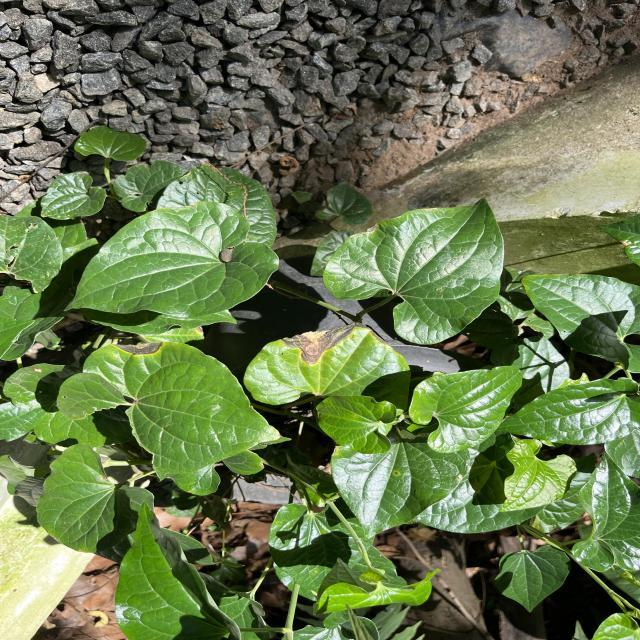Piper longum: (320, 194, 507, 346), (56, 200, 280, 320), (110, 498, 243, 640), (328, 439, 472, 544), (517, 273, 640, 375), (488, 376, 640, 448), (406, 364, 526, 455), (312, 394, 398, 456)
